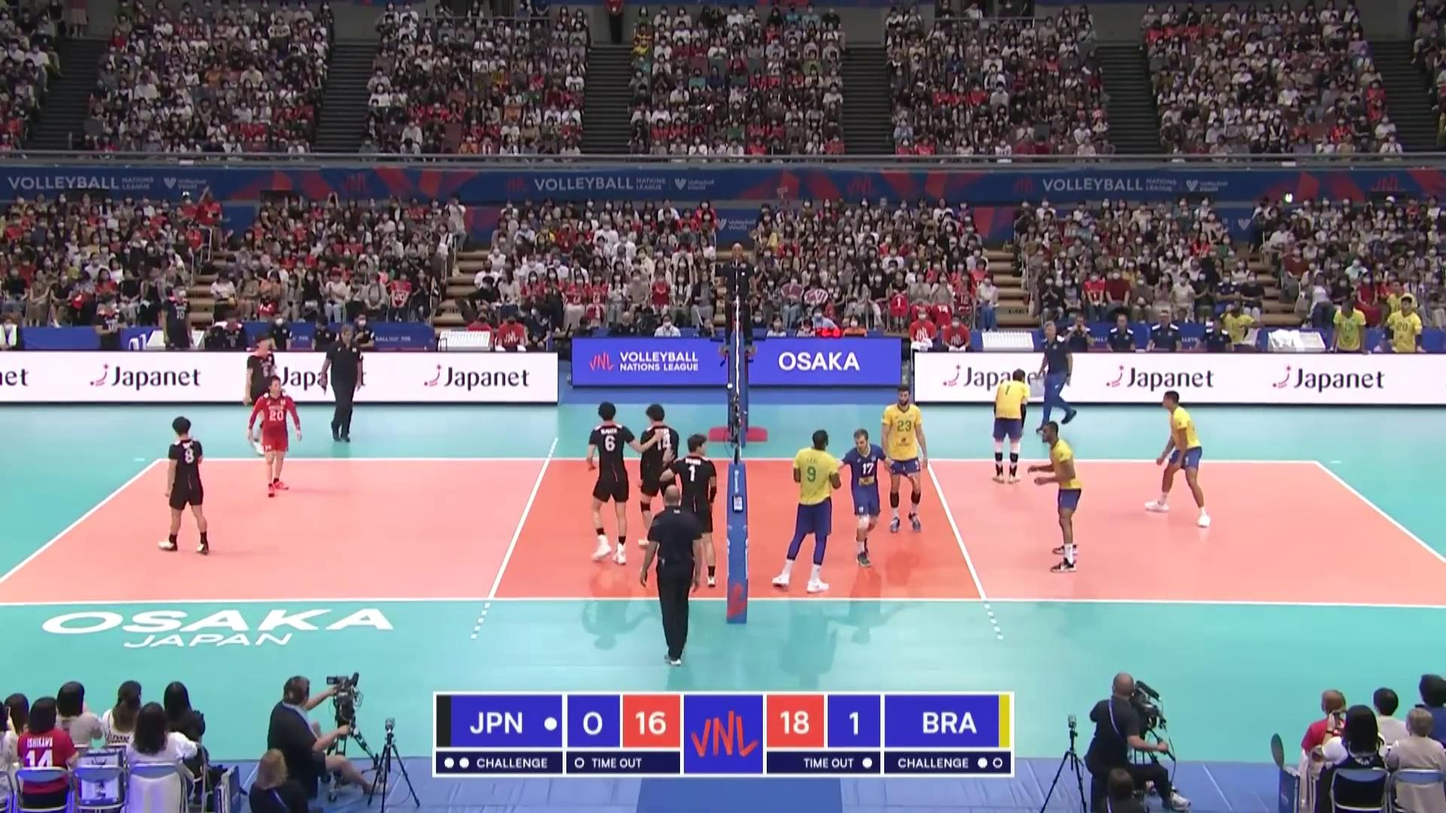player: (774, 429, 837, 590), (1144, 390, 1214, 530), (838, 428, 897, 567), (877, 384, 930, 534), (669, 434, 719, 588), (158, 416, 213, 554), (586, 400, 631, 567), (1036, 421, 1085, 573), (639, 403, 682, 557), (252, 378, 302, 501), (991, 367, 1032, 487), (246, 334, 279, 455)
refree: (644, 486, 705, 669), (721, 242, 755, 356)
